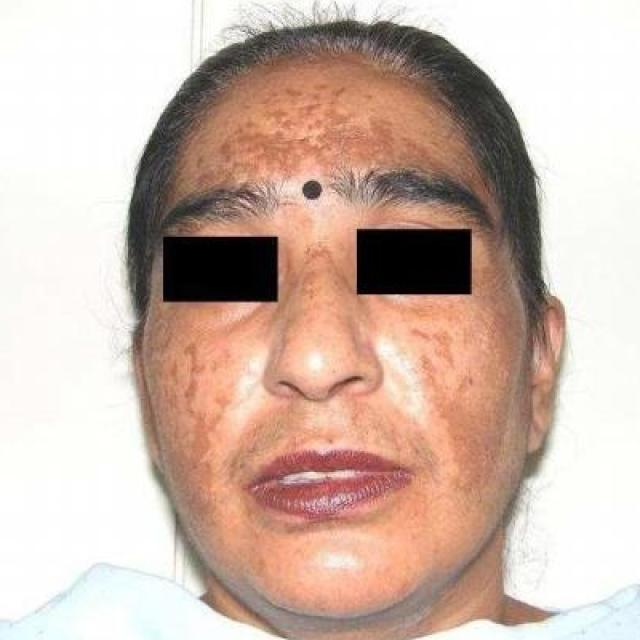melasma: (378, 287, 534, 540), (174, 70, 475, 197), (146, 306, 259, 562), (268, 240, 370, 380)
